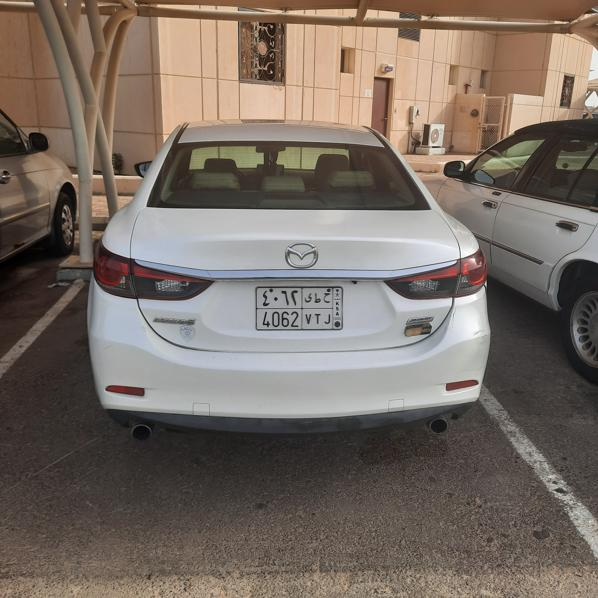numberplate: (255, 285, 345, 331)
